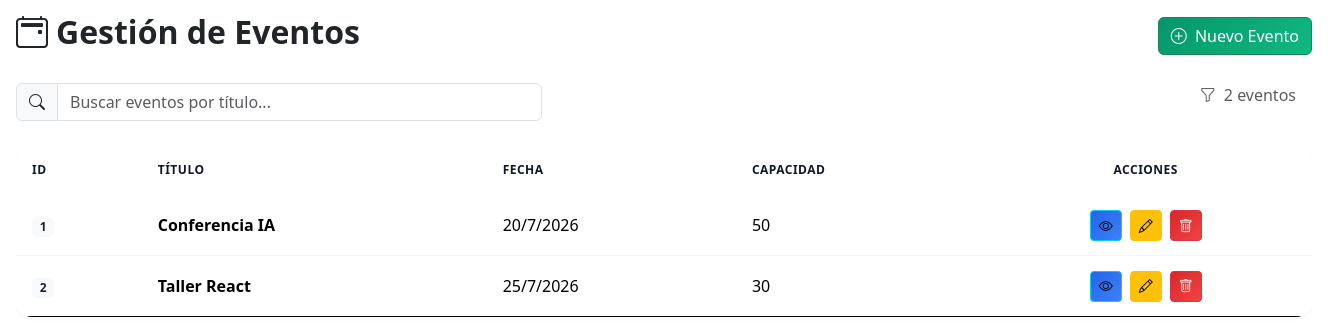
Test: filters events by search term
Type "IA" into the field with placeholder "Buscar eventos por título...". click: (300, 102)
box: [57,83,542,121]
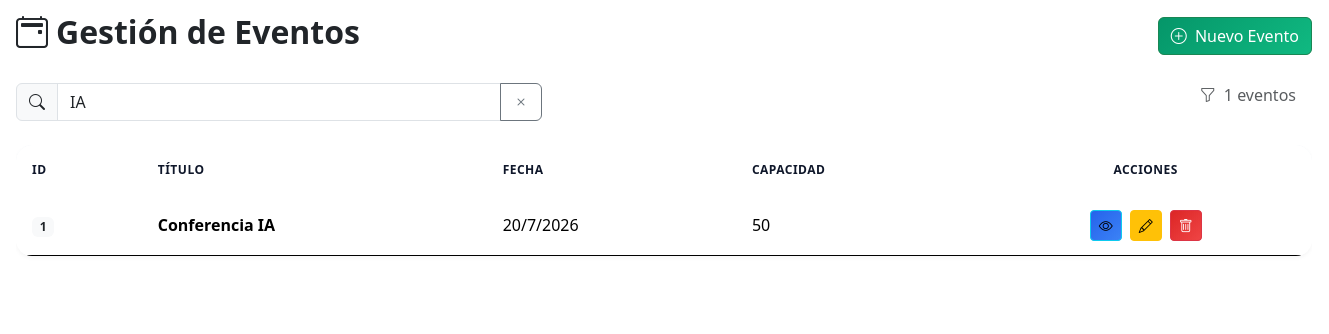
Expected: the text "Conferencia IA" is shown, [158,214,275,236]
Now the text "Taller React" is gone
